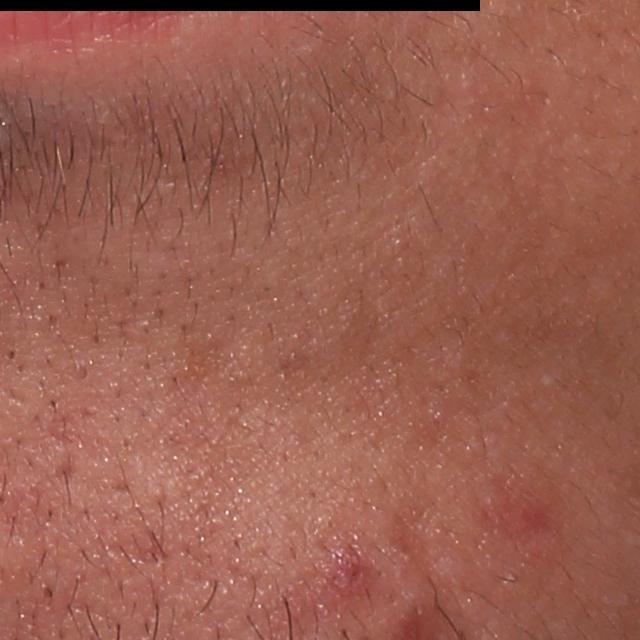atrophic_scar: (55, 456, 78, 489)
papule: (314, 542, 373, 607)
